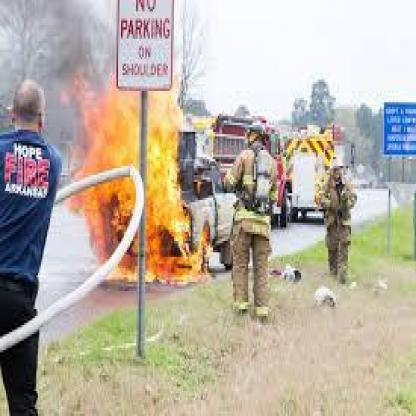fire: (65, 61, 219, 286)
